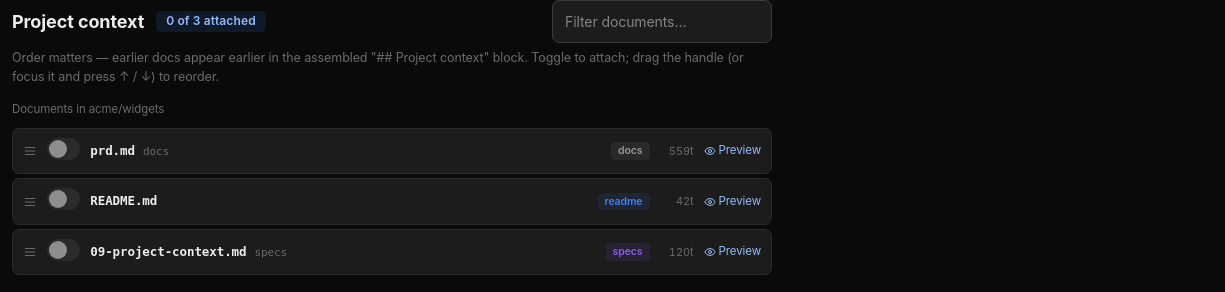
Test: ContextTab (agent editor) › preview panel › closes when Preview is clicked again on the row already shown
Check: the text "README.md" is shown, box [90, 192, 157, 211]
Click the button with aria-label "Preview docs/prd.md". click: (732, 151)
box: [704, 142, 761, 160]
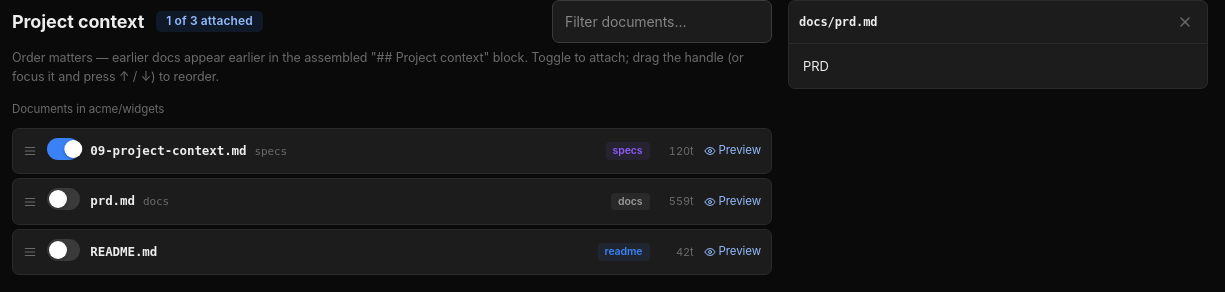
Check: the element "docs/prd.md" is shown, box [788, 0, 1208, 89]
Click the button with aria-label "Preview docs/prd.md". click: (732, 202)
box: [704, 193, 761, 210]
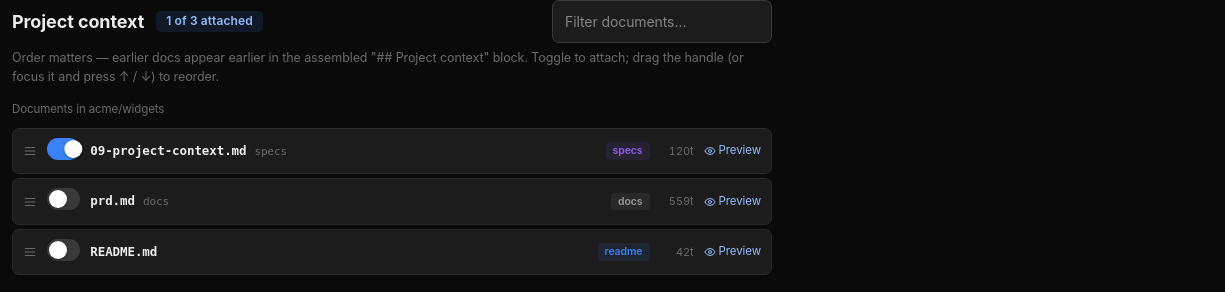
Check: the text "docs/prd.md" is gone
